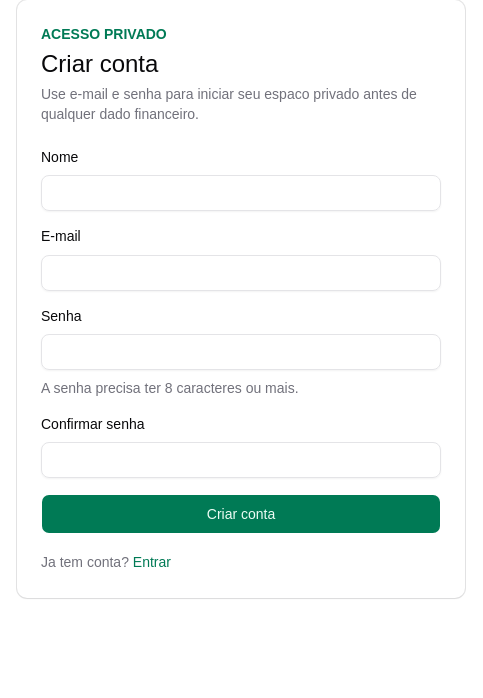
Scenario: SignUpPage › shows existing email recovery guidance without clearing email
Type "Ana" into the field labelled "Nome". click: (241, 193)
box: [41,175,441,211]
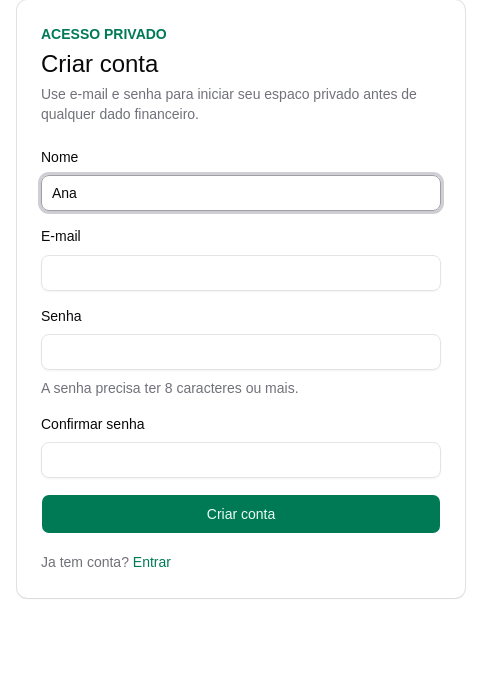
Type "ana@example.com" into the field labelled "E-mail". click: (241, 272)
box: [41,254,441,290]
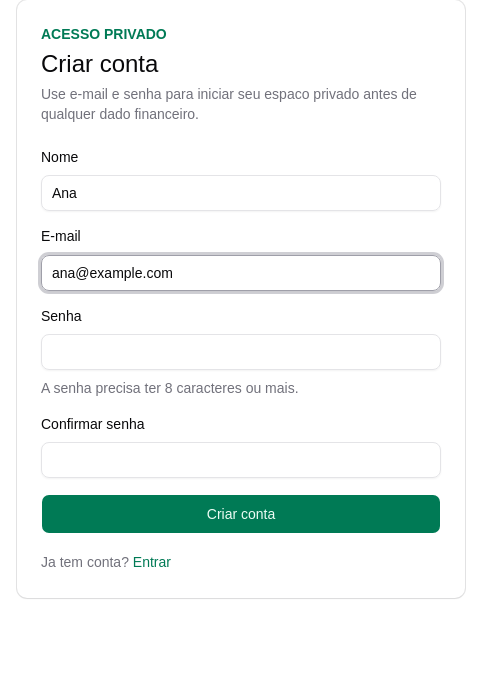
Type "senhaforte" into the password field labelled "Senha". click: (241, 352)
box: [41,334,441,370]
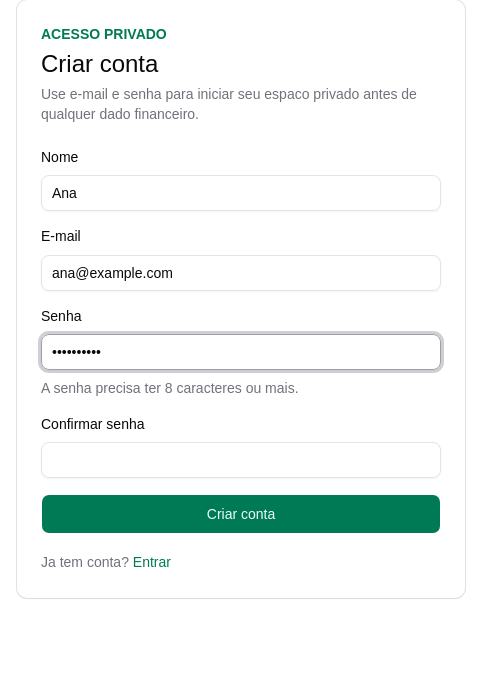
Type "senhaforte" into the password field labelled "Confirmar senha". click: (241, 460)
box: [41,442,441,478]
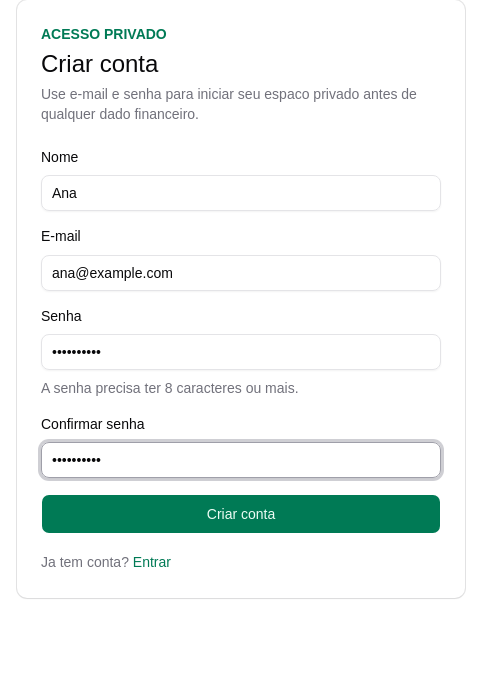
Click the button "Criar conta". click: (241, 514)
box: [41,494,441,534]
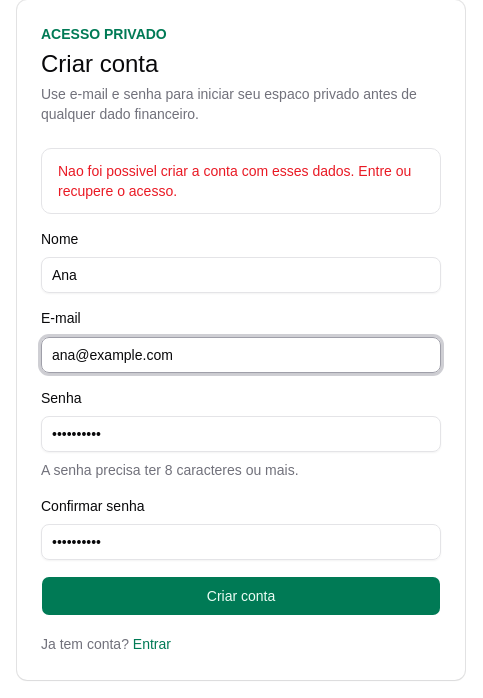
expect the text "Nao foi possivel criar a conta com esses dados. Entre ou recupere o acesso." is shown: met, box [58,161,424,201]
